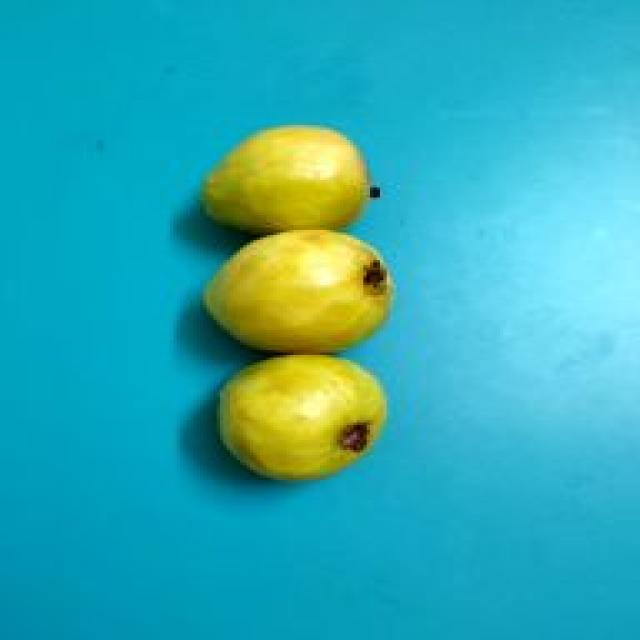Good_Guava: (200, 230, 393, 360), (217, 352, 390, 485), (200, 125, 380, 240)
